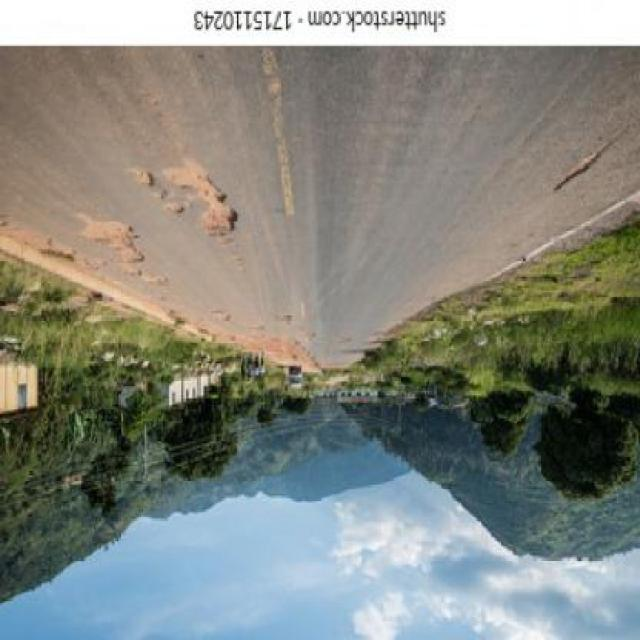pothole: (126, 164, 242, 242), (76, 212, 170, 292)
